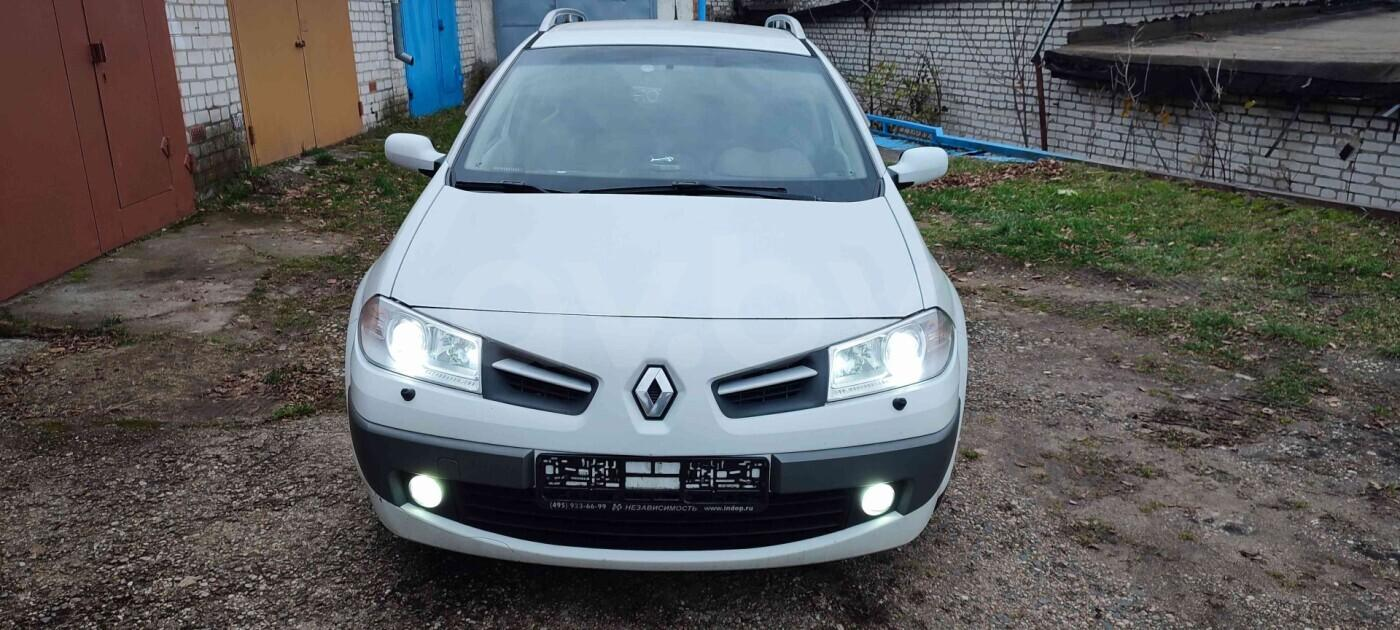Megane_2005-2009: (330, 10, 972, 567)
